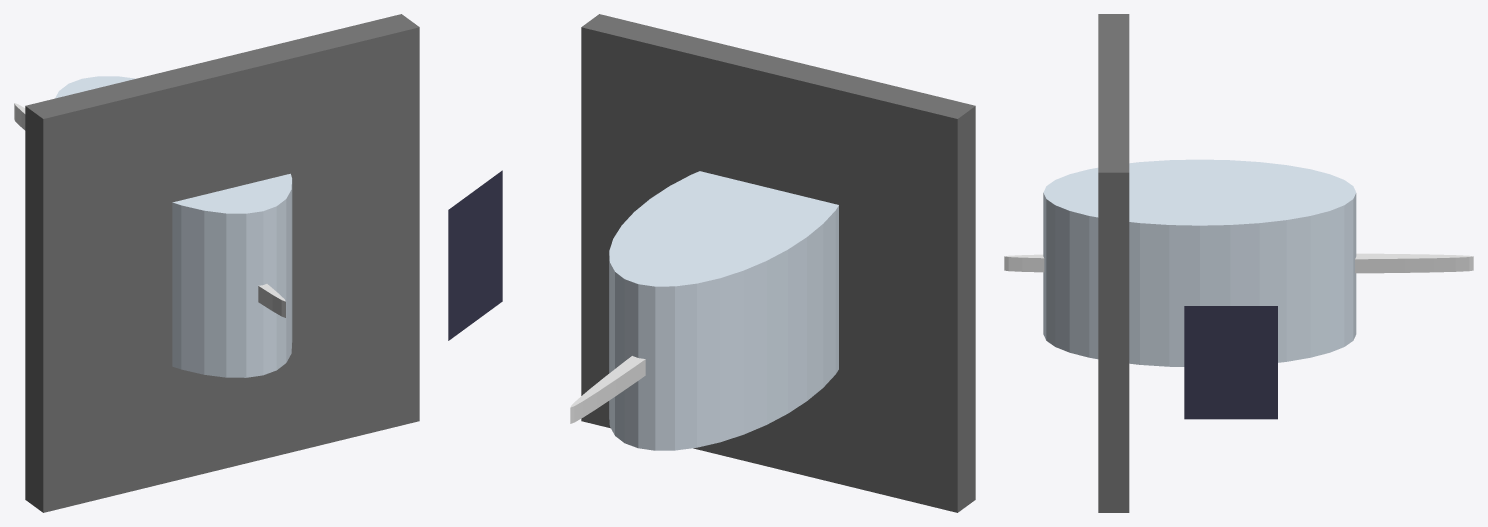
File: phys_dilatation_liquides_v1.glb
The picture shows the model from 3 angles, left to right: view 1: azimuth 30°, elevation 25°; view 2: azimuth 150°, elevation 25°; view 3: azimuth 270°, elevation 25°; orthographic projection. The views are drawn at different scales.
Visible parts, largest first — view 1: hot_plate, beaker, thermo_body; view 2: hot_plate, beaker, temp_display, thermo_body; view 3: beaker, hot_plate, temp_display, thermo_body.
Part boxes in pixels (<box>): hot_plate: <box>25,14,419,512</box>; beaker: <box>55,76,292,377</box>; thermo_body: <box>14,103,285,317</box>; hot_plate: <box>581,14,975,512</box>; beaker: <box>609,171,838,450</box>; temp_display: <box>448,170,502,340</box>; thermo_body: <box>570,356,645,423</box>; beaker: <box>1043,159,1356,366</box>; hot_plate: <box>1098,14,1129,512</box>; temp_display: <box>1184,306,1277,419</box>; thermo_body: <box>1004,253,1473,273</box>.
Size of the model in its own units: 2.7 by 2.4 by 3.
